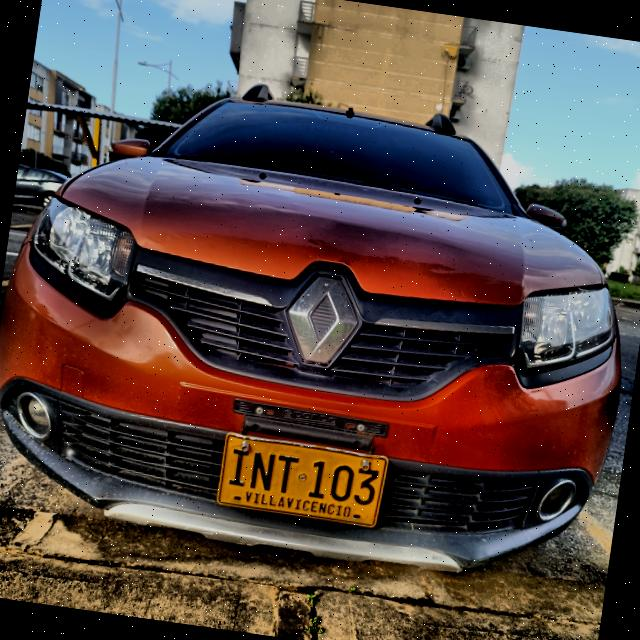0: (327, 462, 357, 504)
1: (306, 458, 330, 499)
3: (352, 464, 382, 508)
I: (226, 447, 252, 488)
N: (248, 450, 278, 492)
T: (273, 454, 300, 496)
